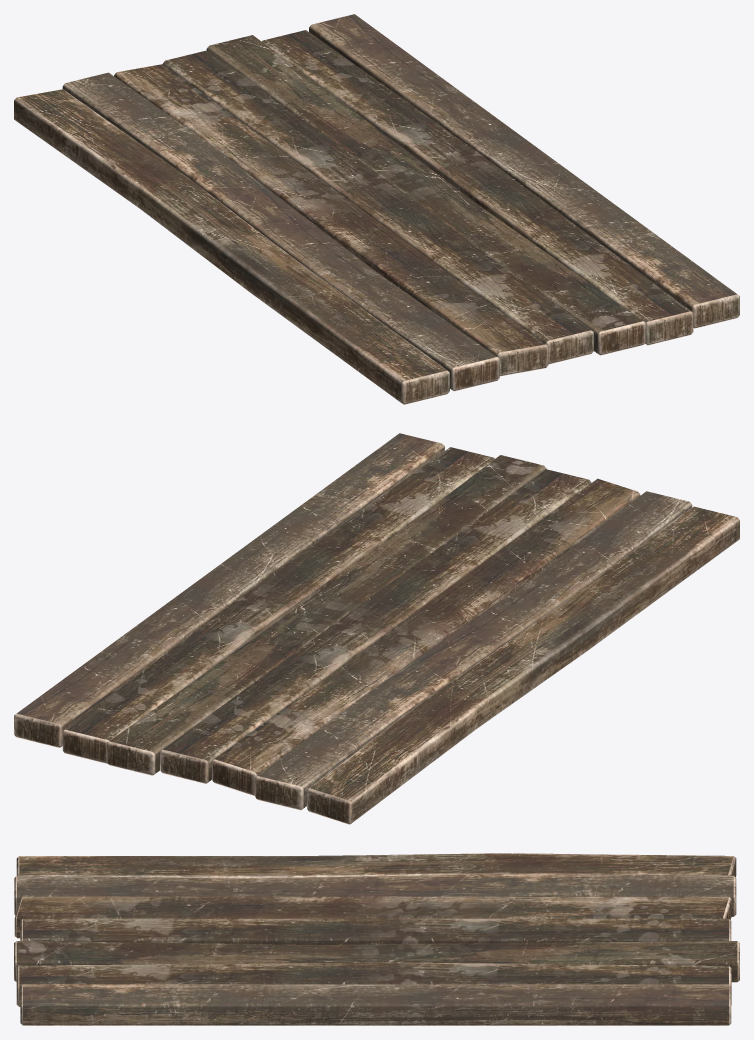
3 renders of one model, top to bottom at view 1: azimuth 30°, elevation 25°; view 2: azimuth 150°, elevation 25°; view 3: azimuth 270°, elevation 25°, orthographic. The views are drawn at different scales.
Parts seen in each view (by area): view 1: SM_Human_Ruins_Floor_Wood_03_LOD0; view 2: SM_Human_Ruins_Floor_Wood_03_LOD0; view 3: SM_Human_Ruins_Floor_Wood_03_LOD0.
Part boxes in pixels (bbox=[...]): SM_Human_Ruins_Floor_Wood_03_LOD0: bbox=[14, 14, 739, 404]; SM_Human_Ruins_Floor_Wood_03_LOD0: bbox=[14, 433, 739, 824]; SM_Human_Ruins_Floor_Wood_03_LOD0: bbox=[14, 853, 739, 1025].
Size of the model in its own units: 2 by 0.1708 by 4.
1 material, 1 textured.
